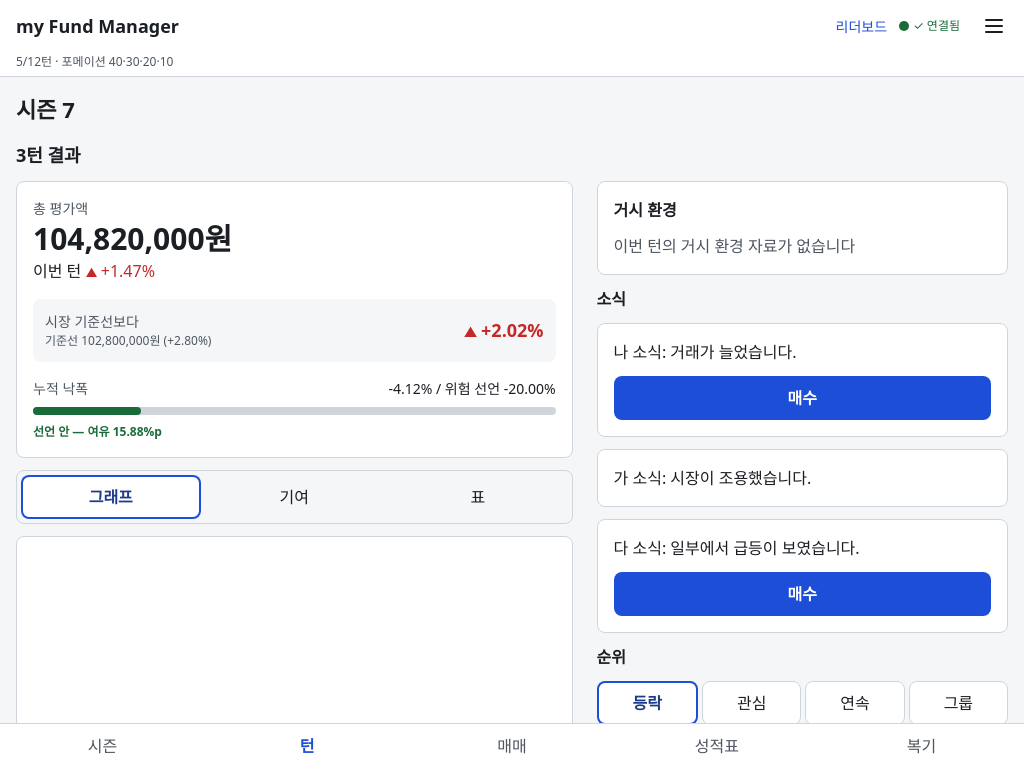
Scenario: feed on a past-turn page › notes a stale screen on TURN_MISMATCH, re-reads the season, and clears the note on the next start
Click the button with aria-label "종목 가 매수". click: (802, 594)
box: [614, 572, 991, 616]
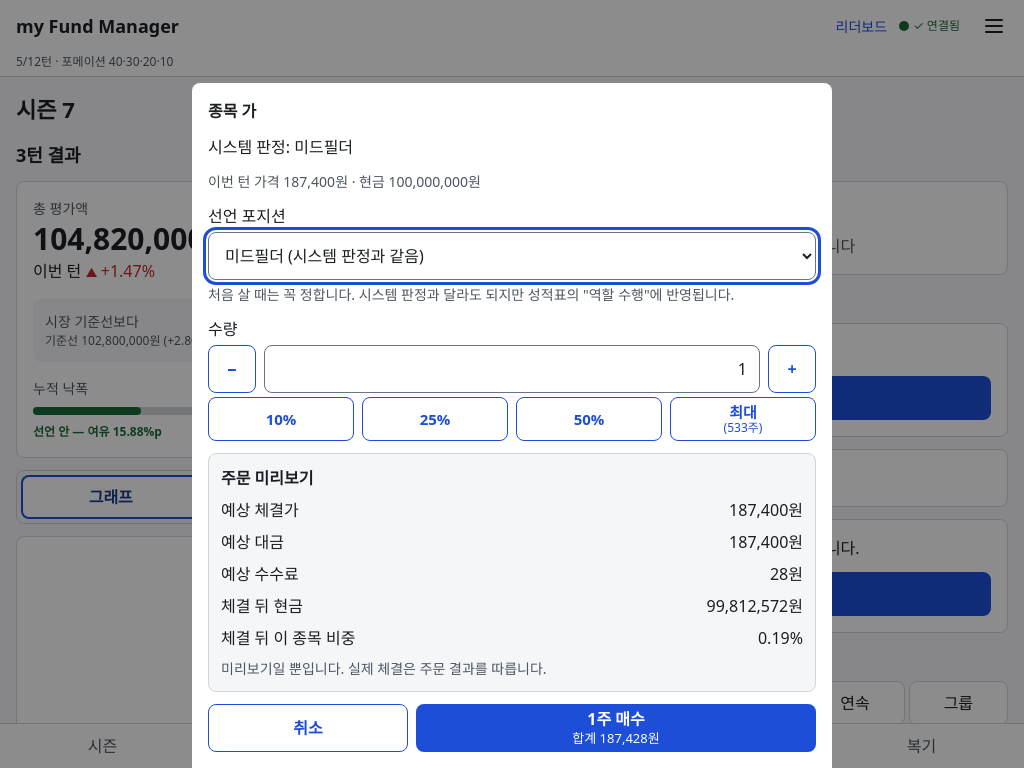
Click the button "1주 매수 합계 187,428원". click: (616, 728)
box: [416, 704, 816, 752]
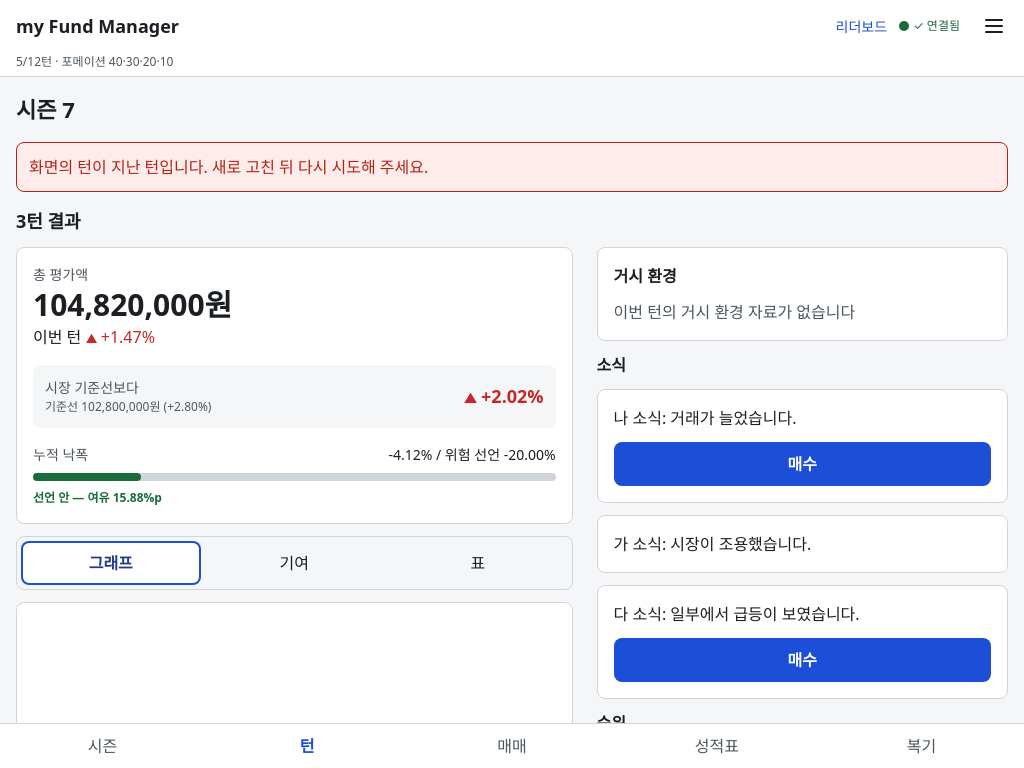
Result: the message "화면의 턴이 지난 턴입니다. 새로 고친 뒤 다시 시도해 주세요." is shown at [16, 142, 1008, 192]
Result: the dialog is gone
Click the button with aria-label "종목 가 매수". click: (802, 660)
box: [614, 638, 991, 682]
(page scrolled)
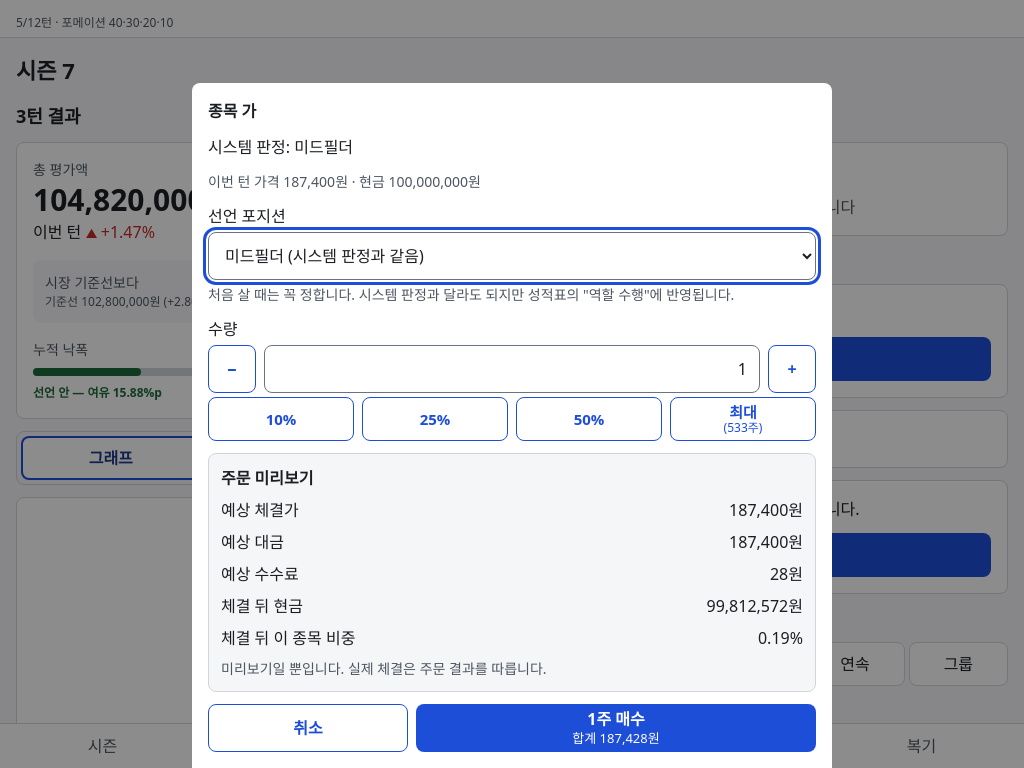
Result: the dialog "종목 가" is shown at [192, 83, 832, 767]
